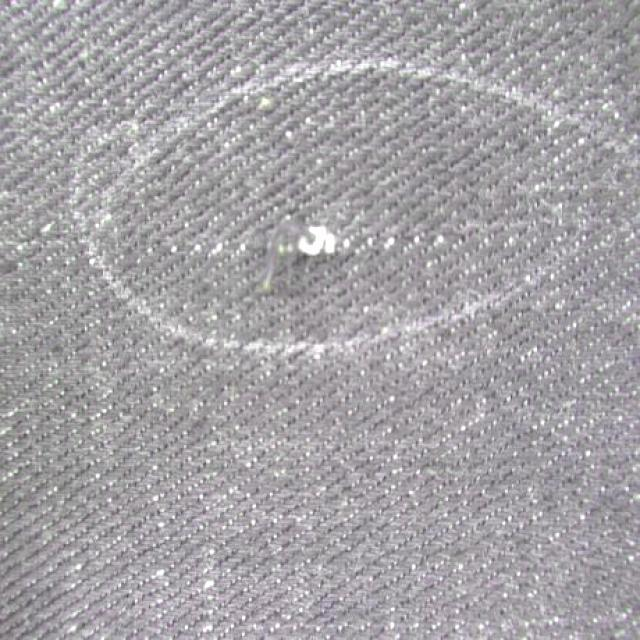Thread_other: (244, 181, 406, 303)
